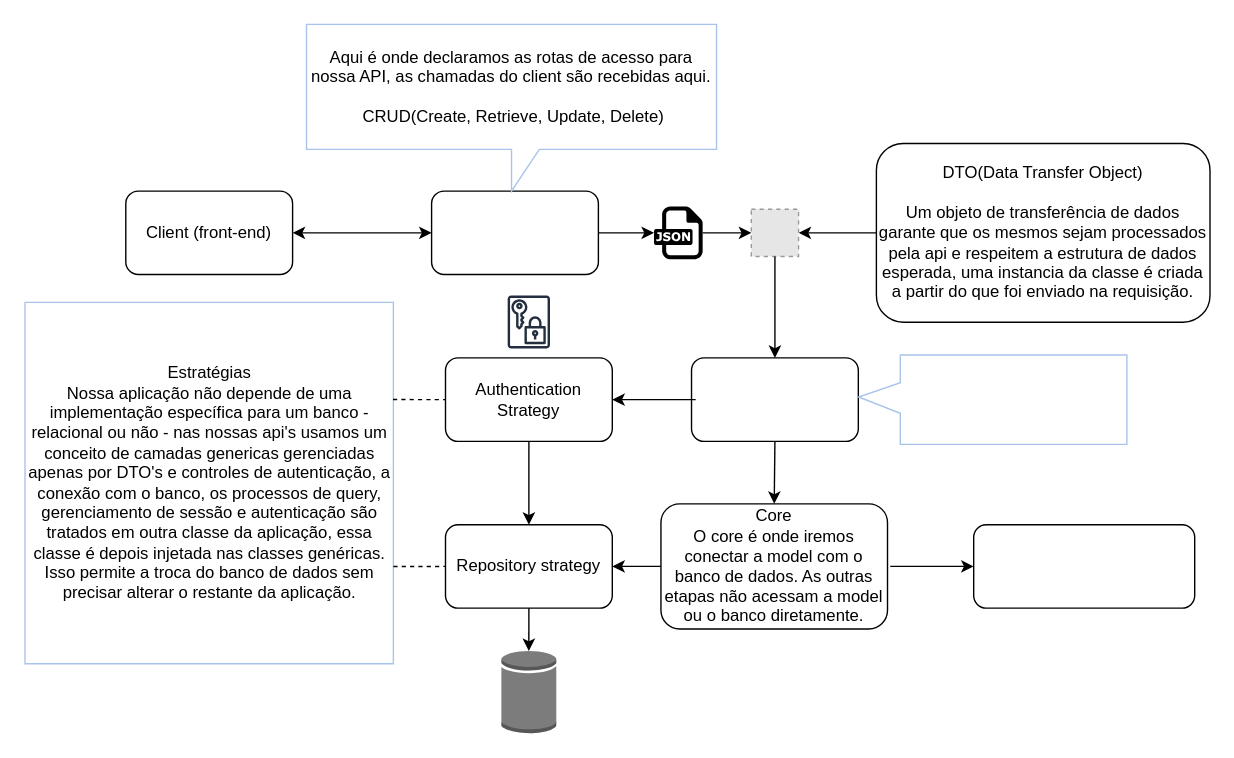
Some shapes in this 1234 by 758 pixel diagram are drawn without their labels. Grey dashed boxes stand in for pictures. The shapes that lost their labels are listed below. From the top down, each one's centre as x and y in pixels, then its label:
(514,232): Resource Camada de recursos.
(774,399): Controller Camada de controle de acesso.
(992,399): Aqui acontece o tratamento de excessões.
(1083,565): Model Uma representação de classe da modelagem de dados.
